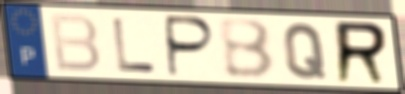B: (215, 18, 277, 82), (47, 12, 103, 74)
L: (109, 15, 157, 74)
P: (165, 13, 218, 80)
Q: (281, 21, 328, 81)
R: (333, 18, 390, 86)
